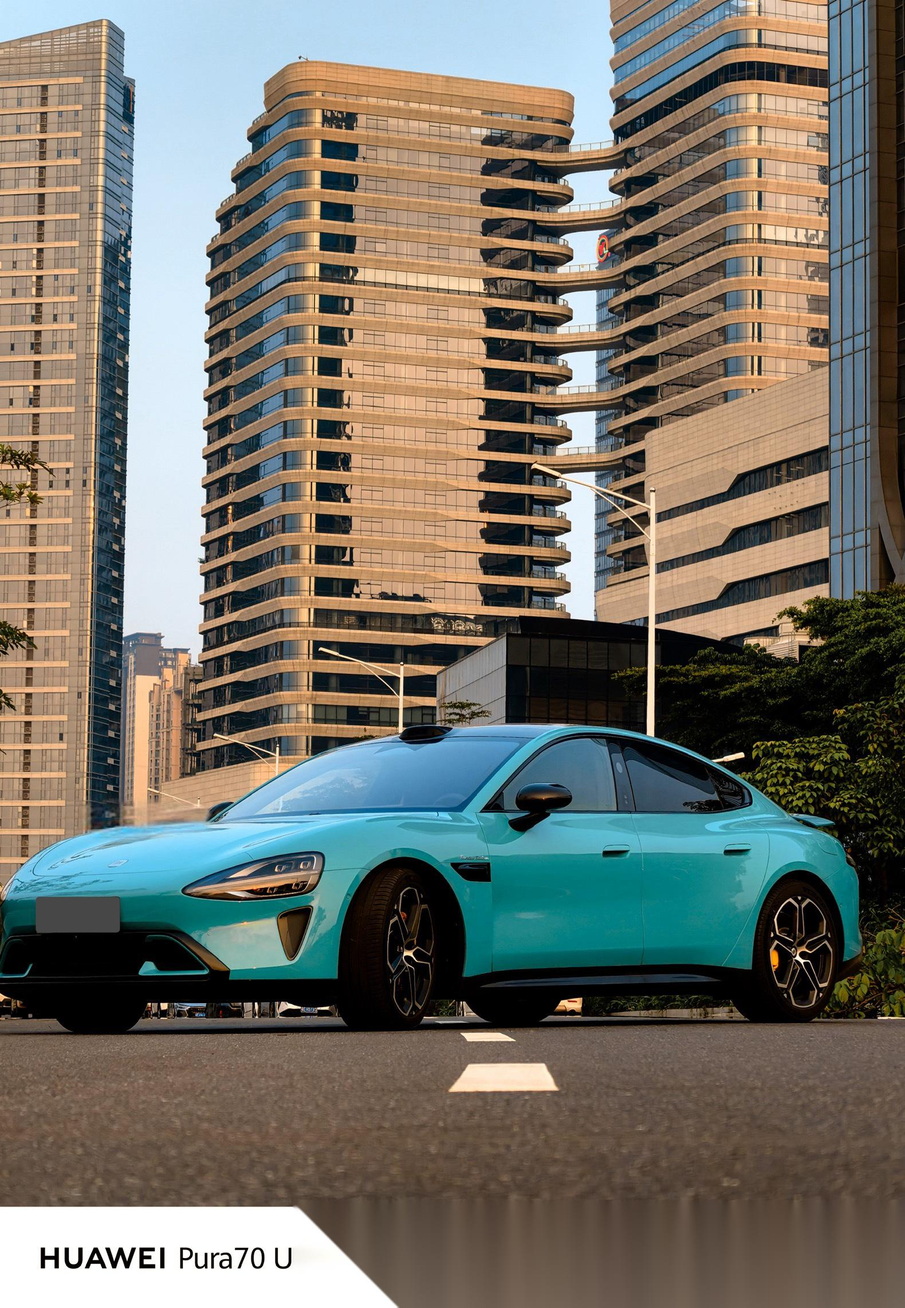su7: (6, 725, 866, 1032)
